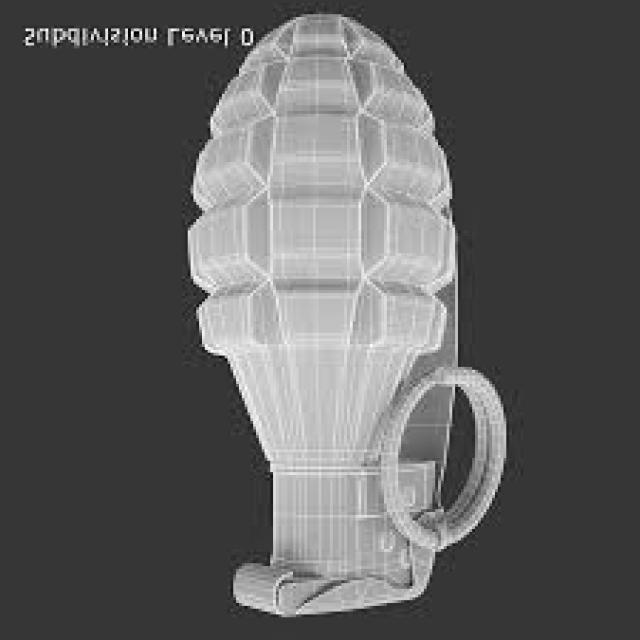grenade: (174, 4, 528, 625)
